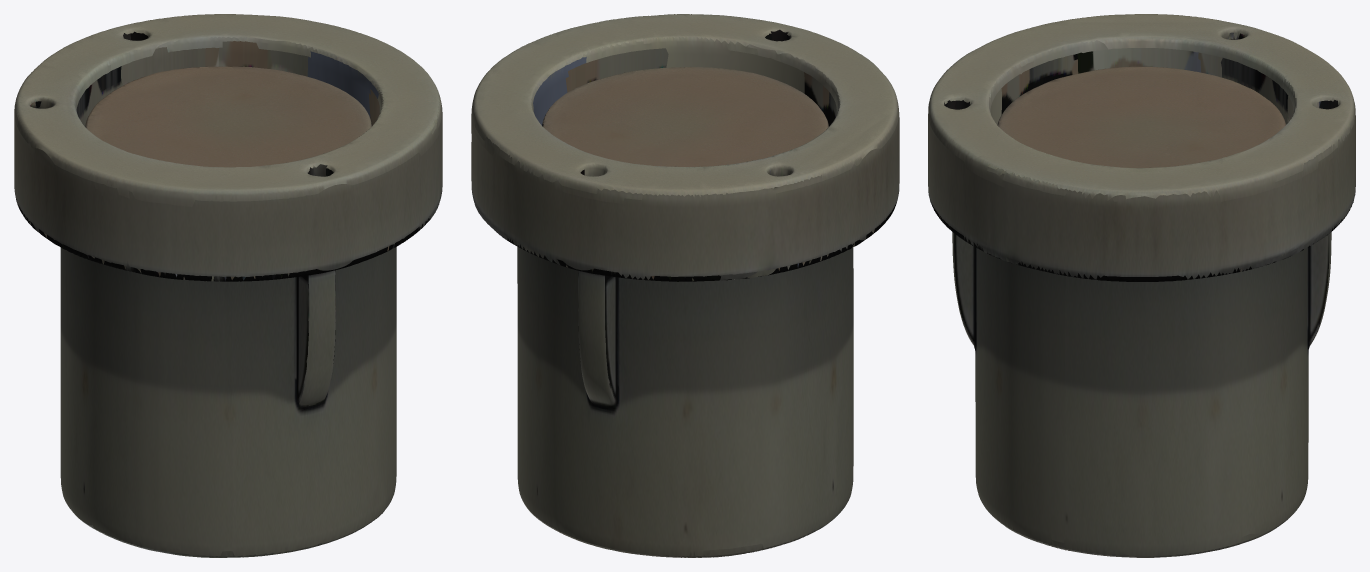
The model's file is street-manhole.glb.
3 views of the same model, side by side, from view 1: azimuth 30°, elevation 25°; view 2: azimuth 150°, elevation 25°; view 3: azimuth 270°, elevation 25° (orthographic).
Parts seen in each view (by area): view 1: tmpgfjig5nx.ply; view 2: tmpgfjig5nx.ply; view 3: tmpgfjig5nx.ply.
Boxes of the visible parts, box(x1,y1,x2,y2) form: tmpgfjig5nx.ply: box(14, 14, 442, 557); tmpgfjig5nx.ply: box(471, 14, 899, 557); tmpgfjig5nx.ply: box(928, 14, 1355, 557).
Bounding box in the file's own units: 1 × 1 × 1.
1 material, 1 textured.
